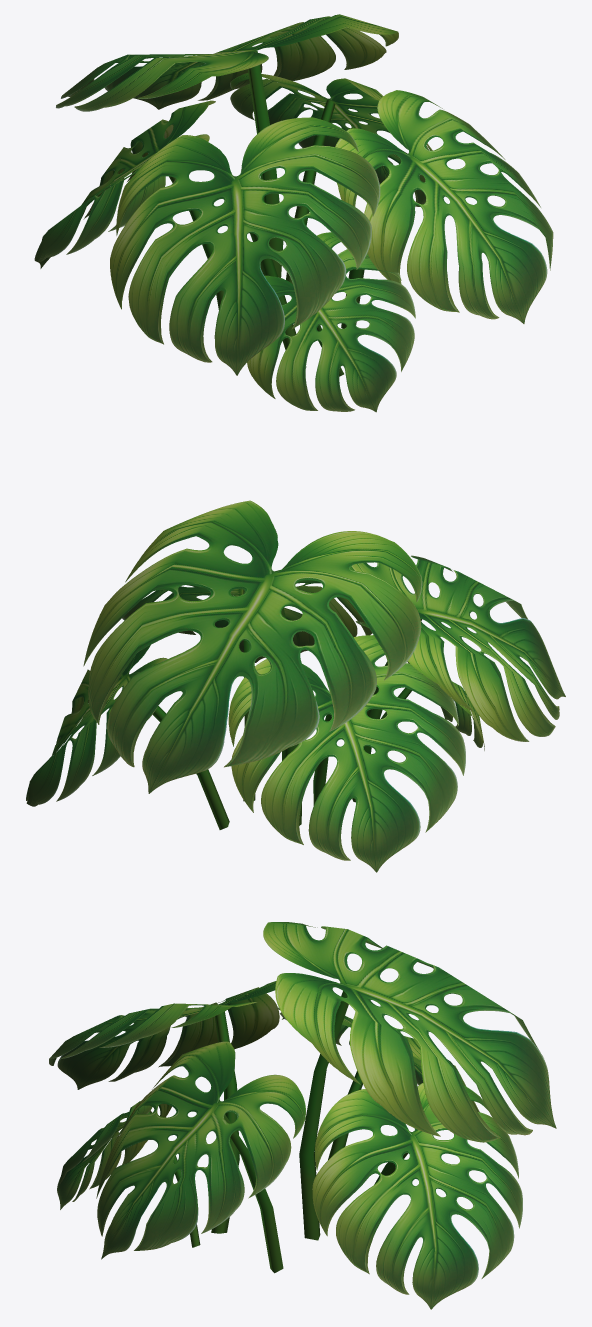
Rendered from bush2.glb.
The picture shows the model from 3 angles, top to bottom: view 1: azimuth 30°, elevation 25°; view 2: azimuth 150°, elevation 25°; view 3: azimuth 270°, elevation 25°; orthographic projection. The views are drawn at different scales.
Visible parts, largest first — view 1: Plane.007, Plane.006, Plane.009, Plane, Plane.004, Plane.008, Cube, Cube.006; view 2: Plane, Plane.004, Plane.007, Plane.008, Plane.006, Plane.009, Cube.006; view 3: Plane, Plane.008, Plane.006, Plane.007, Plane.009, Cube, Cube.004, Cube.005, Plane.004.
Part boxes in pixels (x1,y1,x2,y2): Plane.007: (110, 117, 380, 375); Plane.006: (335, 90, 553, 323); Plane.009: (247, 232, 415, 412); Plane: (56, 14, 398, 111); Plane.004: (34, 100, 215, 268); Plane.008: (230, 73, 432, 206); Cube: (248, 51, 283, 277); Cube.006: (286, 100, 335, 283); Plane: (83, 500, 422, 793); Plane.004: (228, 635, 465, 872); Plane.007: (350, 555, 565, 741); Plane.008: (26, 645, 167, 806); Plane.006: (122, 570, 372, 662); Plane.009: (355, 621, 484, 750); Cube.006: (152, 706, 229, 829); Plane: (263, 922, 556, 1142); Plane.008: (312, 1083, 522, 1309); Plane.006: (96, 1041, 305, 1259); Plane.007: (49, 981, 283, 1089); Plane.009: (57, 1101, 171, 1209); Cube: (299, 991, 348, 1240); Cube.004: (224, 1114, 283, 1273); Cube.005: (211, 1011, 239, 1233); Plane.004: (278, 1007, 479, 1112).
Size of the model in its own units: 0.8691 by 0.6156 by 1.02.
2 materials, 2 textured.
